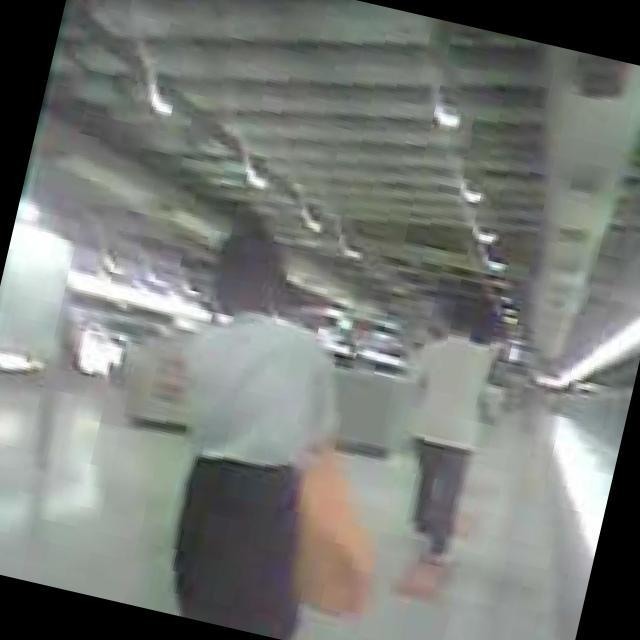person: (127, 222, 382, 640), (372, 292, 518, 572)
